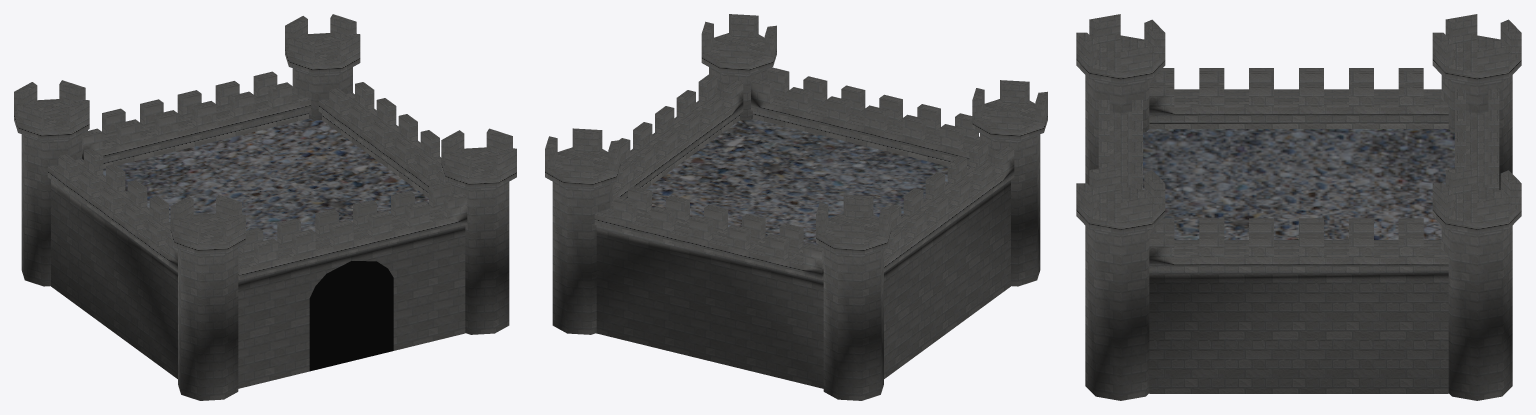
Rendered from castle.fbx.
3 renders of one model, left to right at view 1: azimuth 30°, elevation 25°; view 2: azimuth 150°, elevation 25°; view 3: azimuth 270°, elevation 25°, orthographic. The views are drawn at different scales.
Parts seen in each view (by area): view 1: Castle; view 2: Castle; view 3: Castle.
Part boxes in pixels (x1,y1,x2,y2): Castle: (14, 14, 516, 400); Castle: (545, 14, 1047, 400); Castle: (1076, 14, 1521, 400).
Bounding box in the file's own units: 62.5 × 31.47 × 62.5.
